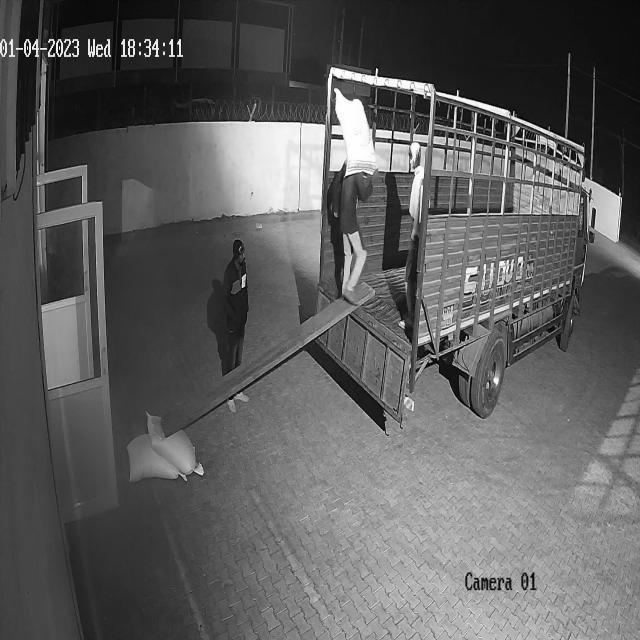sack: (334, 88, 376, 178), (146, 412, 204, 476), (127, 433, 188, 483)
